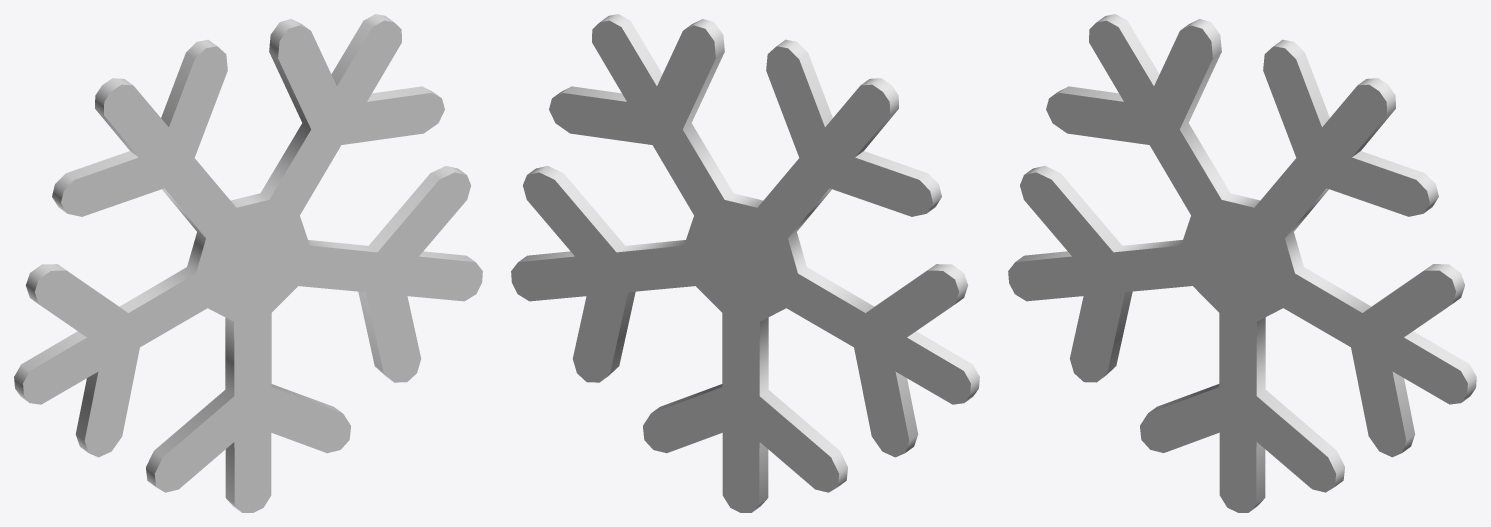
File: Snowflake_01.fbx
The picture shows the model from 3 angles, left to right: view 1: azimuth 30°, elevation 25°; view 2: azimuth 150°, elevation 25°; view 3: azimuth 330°, elevation 25°; orthographic projection.
Parts seen in each view (by area): view 1: Snowflake_01; view 2: Snowflake_01; view 3: Snowflake_01.
Part boxes in pixels (<box>): Snowflake_01: <box>14,14,482,512</box>; Snowflake_01: <box>511,14,979,512</box>; Snowflake_01: <box>1008,14,1476,512</box>.
Size of the model in its own units: 0.2162 by 0.2139 by 0.00728.
